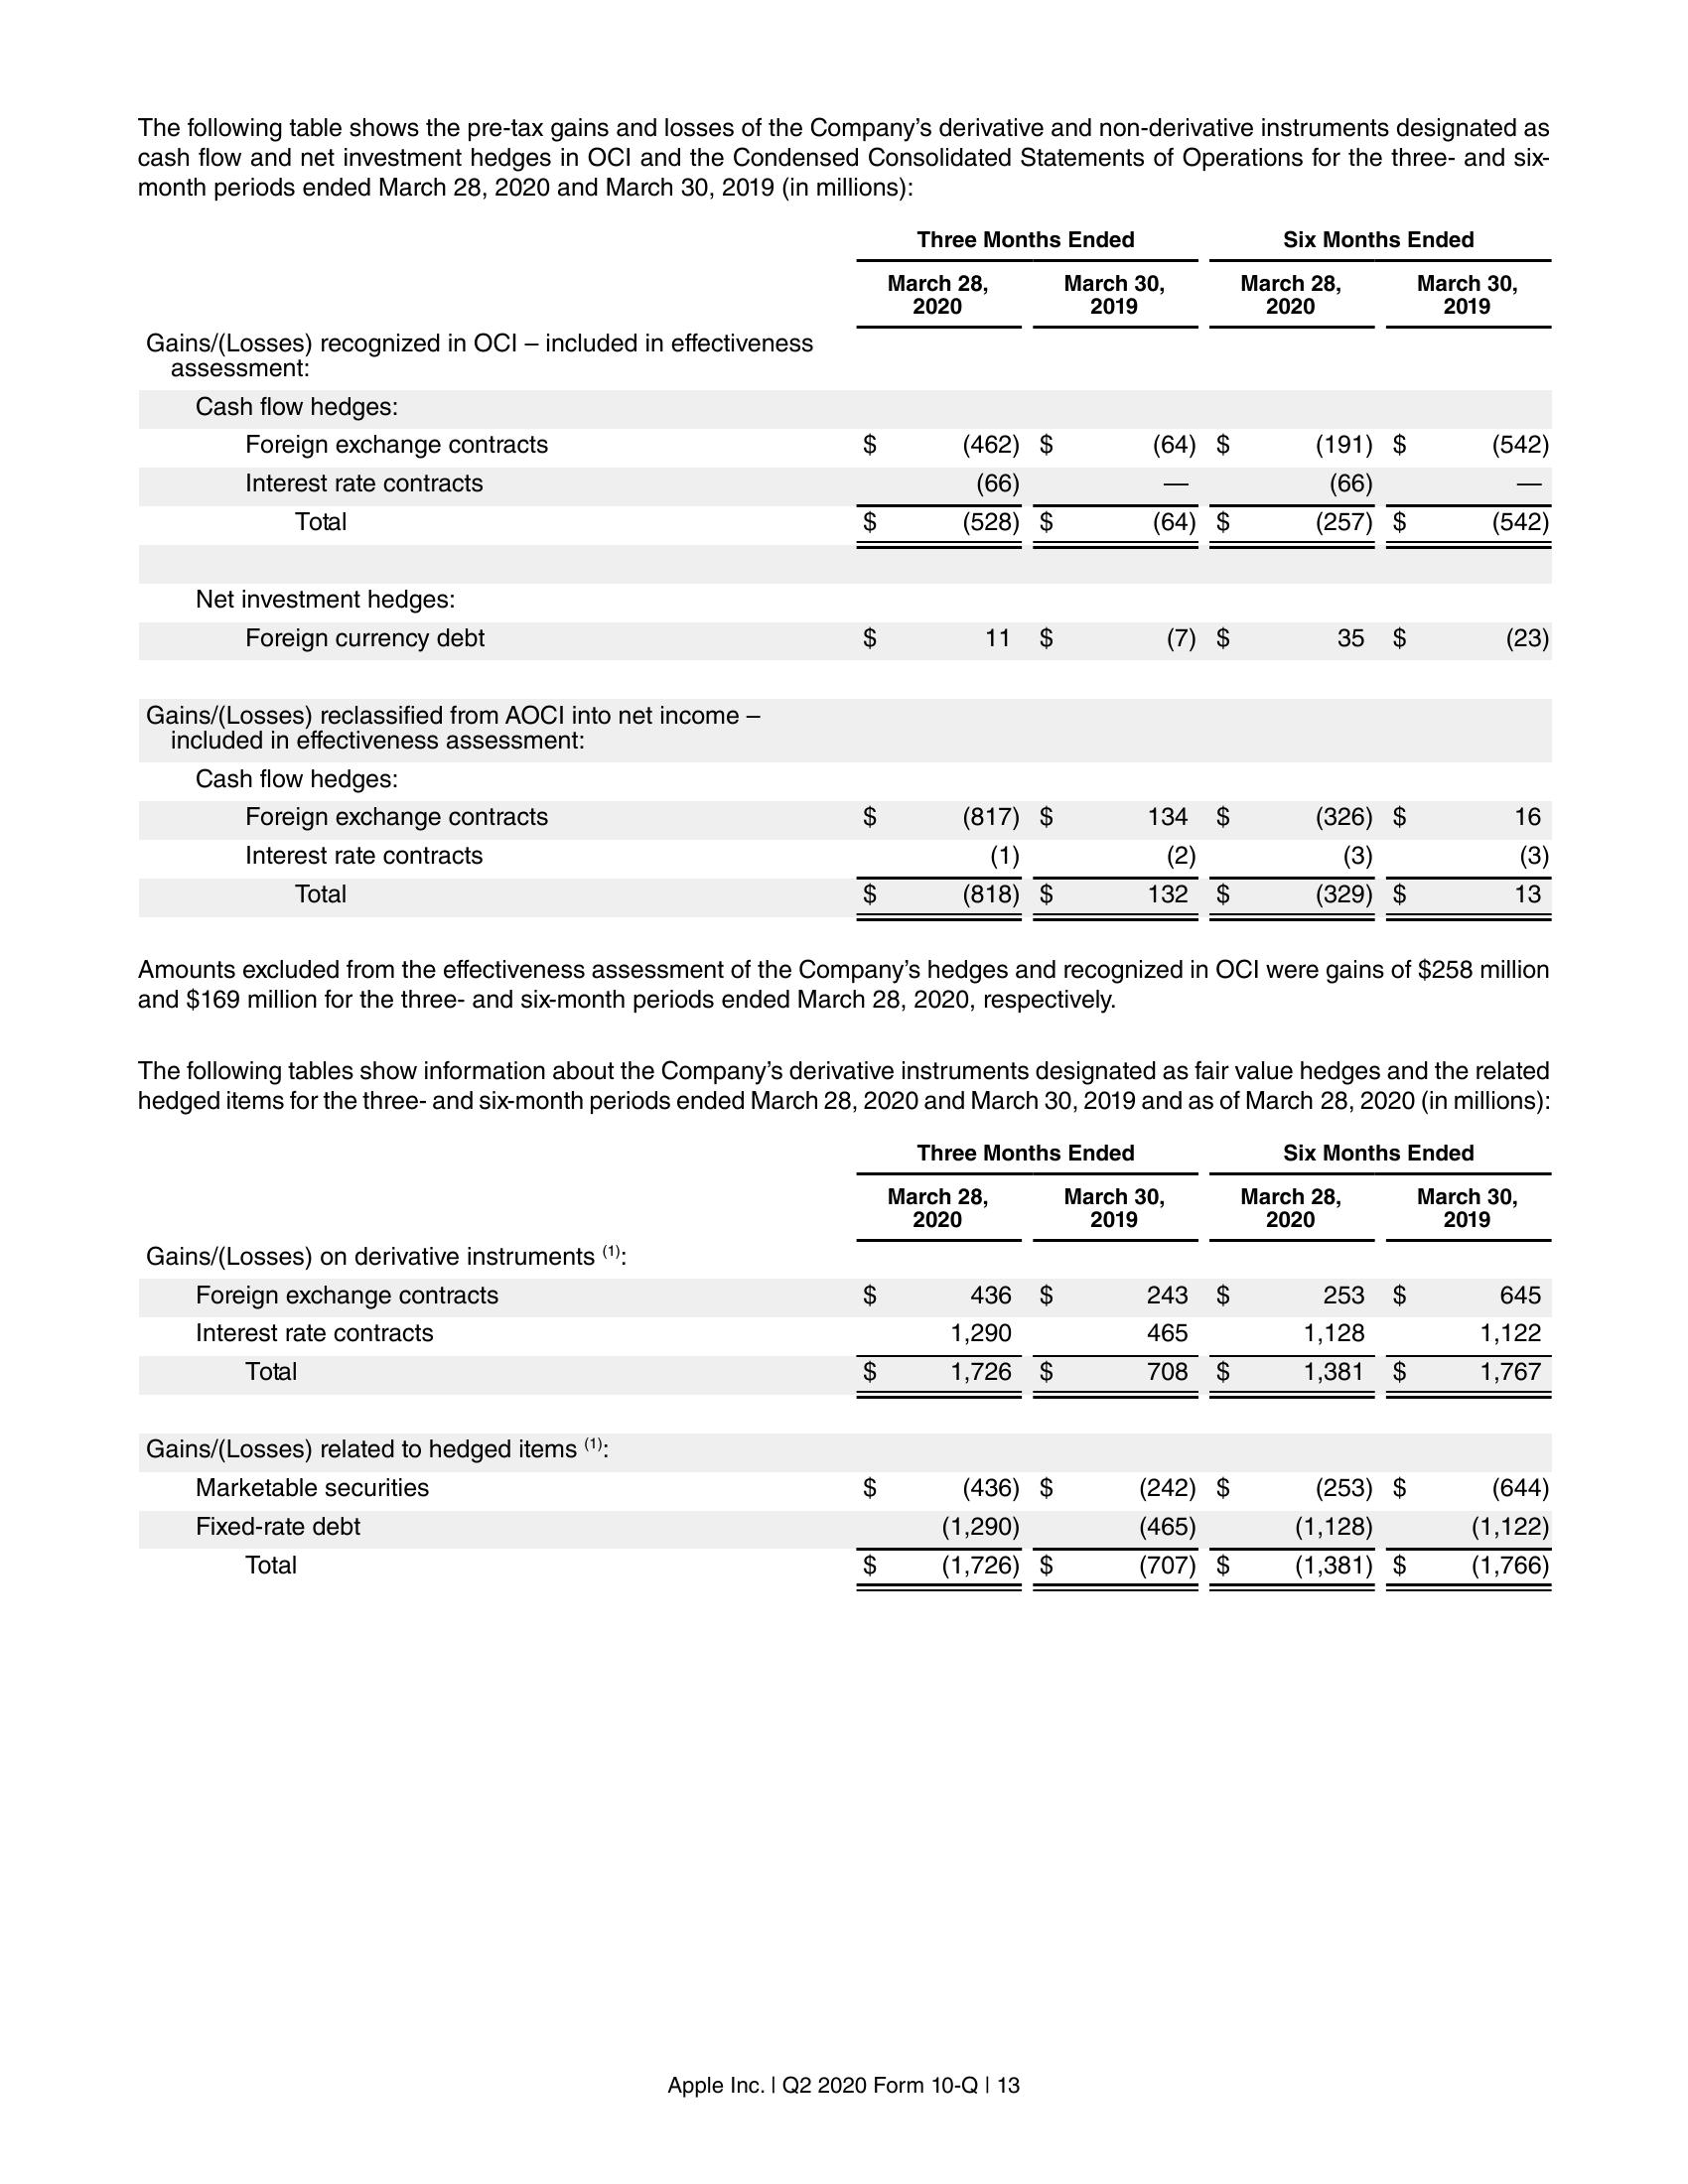table: (142, 223, 1560, 922), (142, 1136, 1560, 1599)
